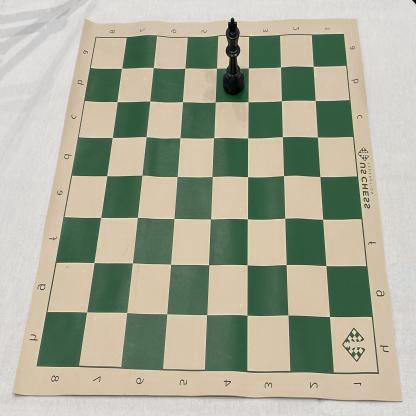black-king: (222, 17, 245, 96)
